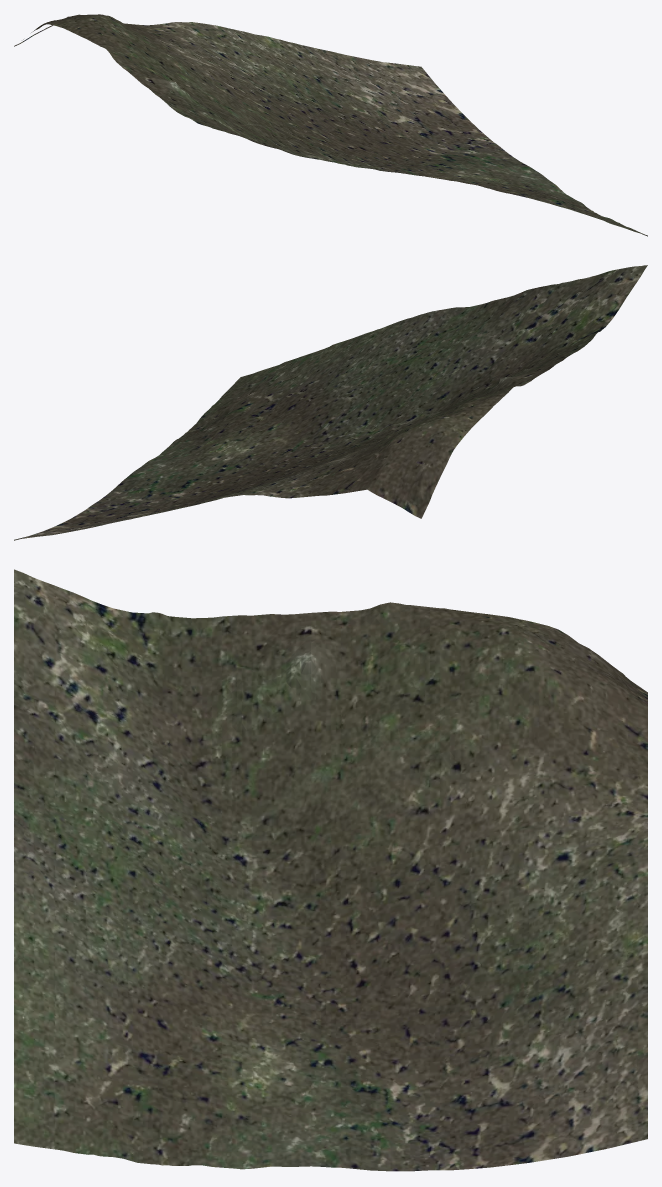
3 renders of one model, top to bottom at view 1: azimuth 30°, elevation 25°; view 2: azimuth 150°, elevation 25°; view 3: azimuth 270°, elevation 25°, orthographic. The views are drawn at different scales.
Size of the model in its own units: 500 by 272 by 481.
1 material, 1 textured.
